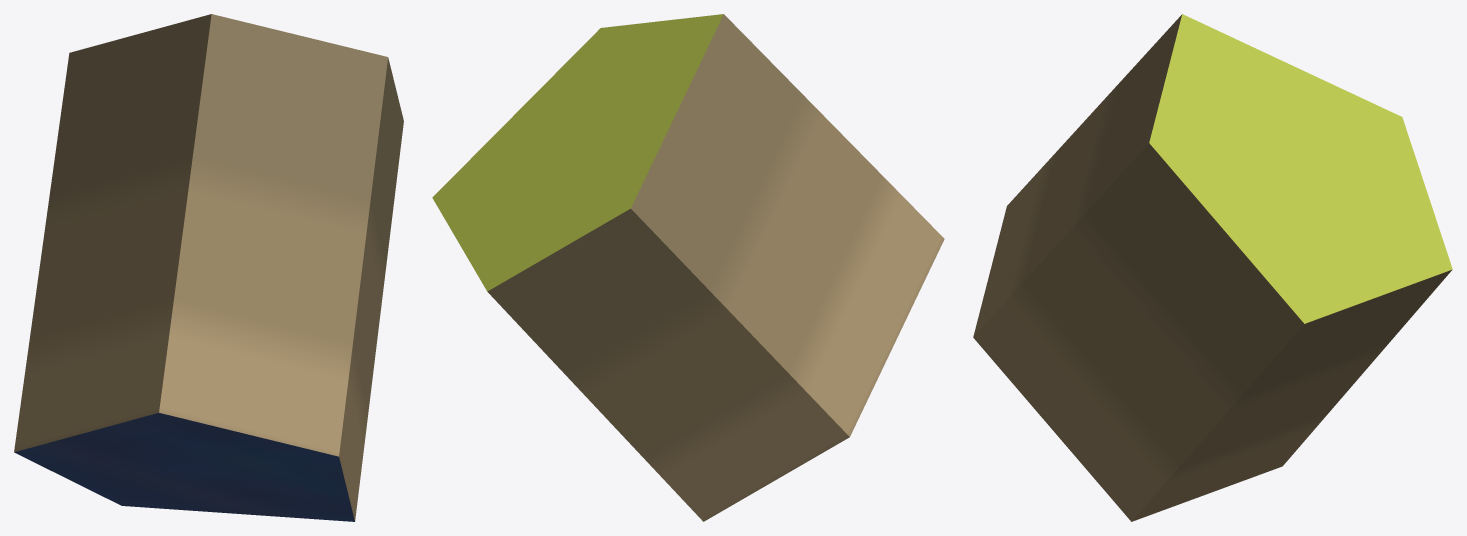
File: 064c_Swaziland.glb
3 views of the same model, side by side, from view 1: azimuth 30°, elevation 25°; view 2: azimuth 150°, elevation 25°; view 3: azimuth 270°, elevation 25° (orthographic). The views are drawn at different scales.
Parts seen in each view (by area): view 1: part_0; view 2: part_0; view 3: part_0.
Boxes of the visible parts, x1,y1,x2,y2 form: part_0: [14, 14, 403, 521]; part_0: [432, 14, 944, 521]; part_0: [973, 14, 1452, 521].
Size of the model in its own units: 0.2404 by 0.2798 by 0.2604.
1 material, 1 textured.
